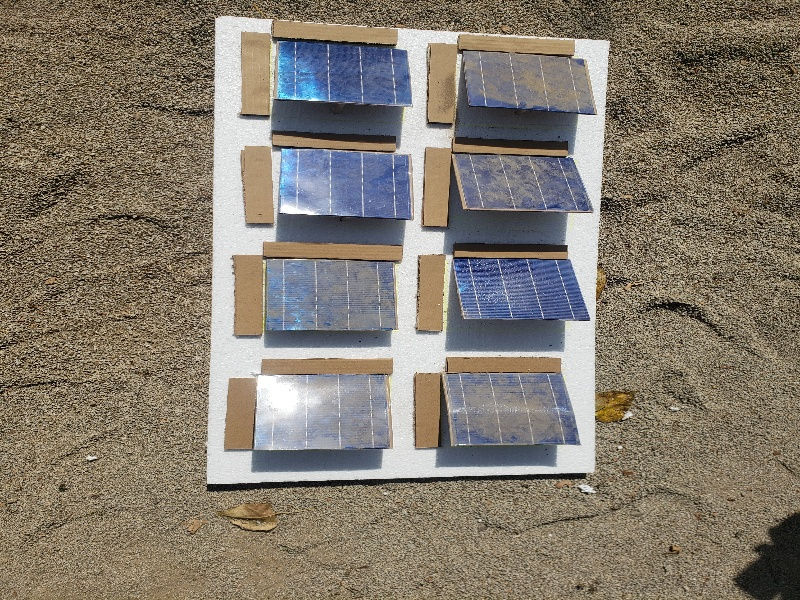clean: (273, 35, 416, 110), (453, 255, 592, 325)
dirty: (253, 375, 393, 451), (445, 147, 598, 215), (440, 371, 582, 443), (267, 259, 400, 330), (463, 49, 599, 115)
semi: (279, 141, 417, 223)
